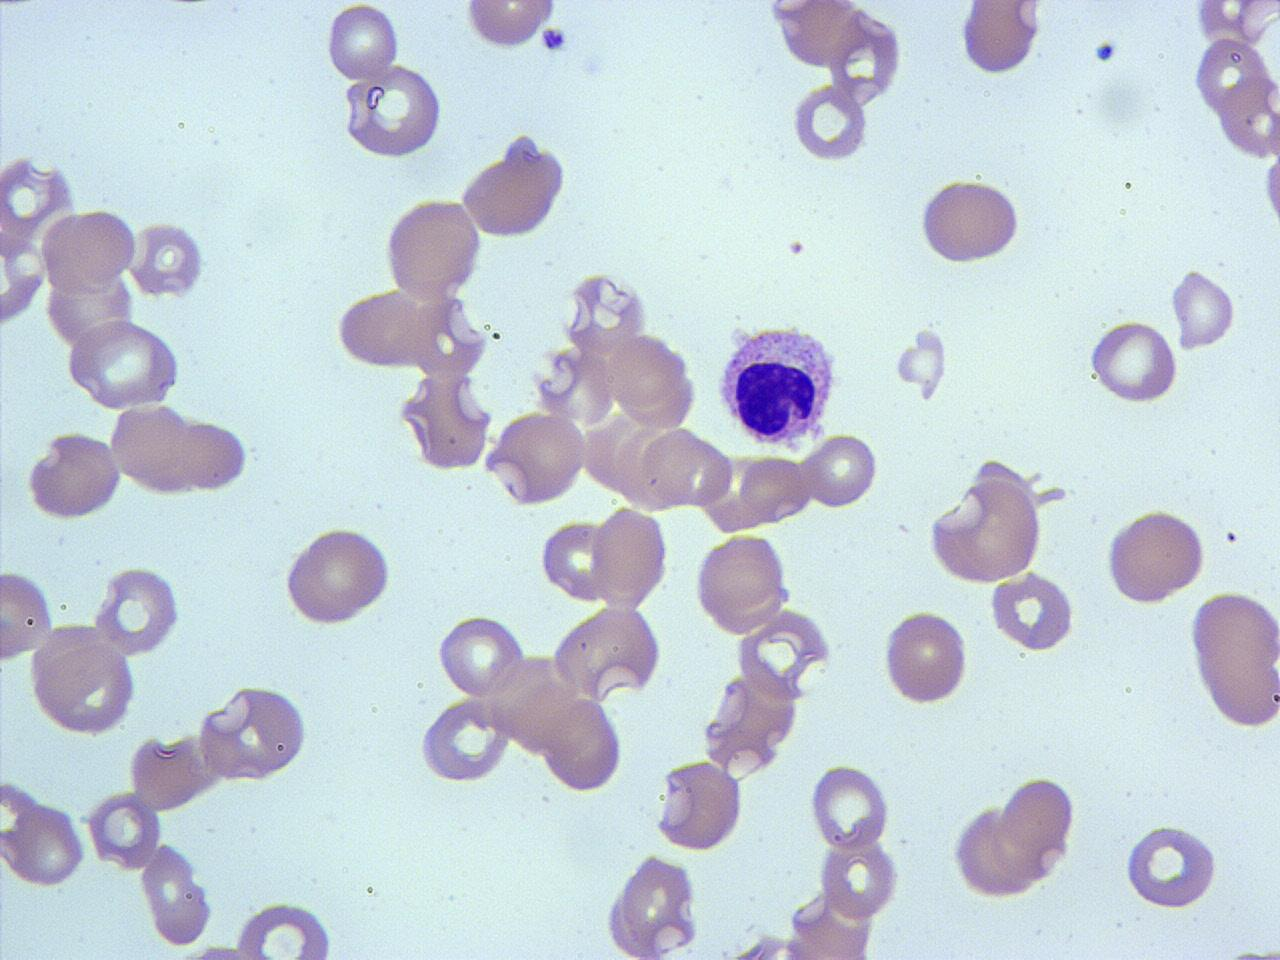Platelets: (1091, 77, 1149, 129), (580, 49, 611, 83), (1224, 942, 1278, 960), (539, 24, 568, 54), (1094, 39, 1120, 64)
RBC: (926, 460, 1045, 586), (1189, 587, 1280, 730), (25, 625, 139, 737), (460, 131, 572, 242), (281, 522, 396, 631), (196, 680, 312, 784), (65, 317, 184, 412), (382, 194, 484, 304), (340, 61, 446, 162), (556, 604, 665, 704), (602, 852, 703, 958), (1102, 506, 1208, 606), (692, 532, 794, 636), (483, 411, 590, 508), (399, 370, 495, 475), (916, 173, 1024, 266), (22, 428, 123, 523), (42, 249, 137, 350), (416, 696, 520, 788), (880, 607, 972, 708), (994, 772, 1076, 882), (90, 564, 184, 659), (652, 757, 746, 854), (1120, 823, 1222, 911), (590, 504, 670, 612), (109, 400, 198, 498), (42, 204, 135, 296), (634, 426, 732, 511), (562, 266, 652, 358), (1087, 317, 1179, 405), (986, 568, 1079, 654), (950, 802, 1033, 899), (734, 615, 823, 705), (335, 286, 428, 372), (434, 613, 528, 699), (824, 8, 904, 109), (544, 696, 624, 796), (139, 841, 213, 948), (808, 760, 892, 854), (0, 150, 73, 256), (817, 834, 901, 923), (4, 799, 86, 889), (410, 292, 490, 382), (128, 216, 207, 304), (86, 787, 163, 873), (791, 82, 870, 166), (231, 898, 337, 960), (800, 430, 880, 511), (324, 1, 401, 85), (538, 512, 608, 604), (958, 0, 1041, 77), (1193, 35, 1271, 116), (1168, 262, 1238, 352), (175, 415, 250, 494), (1215, 74, 1280, 161), (0, 566, 56, 666), (462, 0, 558, 53), (0, 223, 48, 326), (1190, 0, 1278, 51), (1260, 150, 1280, 236)
WBC: (714, 316, 846, 454), (27, 624, 140, 740), (22, 428, 135, 526), (600, 856, 706, 958), (563, 266, 657, 360), (986, 568, 1081, 656)
